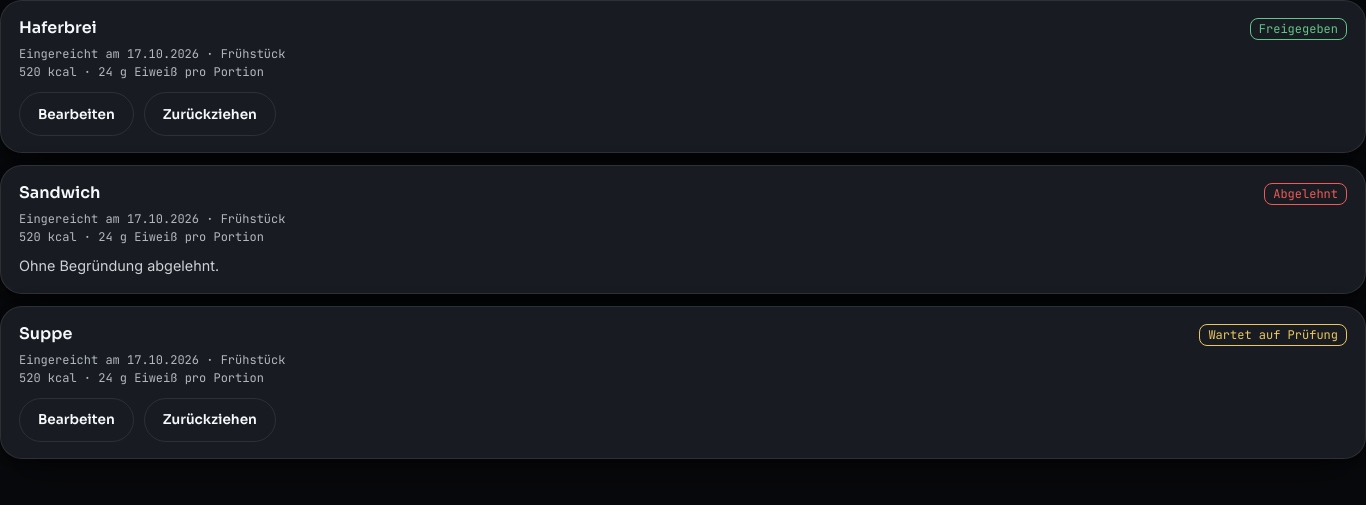
Test: MySubmissionsView — Verifizierte Autoren (Fahrplan 29 V3) › die Rückfrage beim Zurückziehen sagt bei freigegebenen Rezepten, dass es für alle verschwindet
The width and height of the screenshot is (1366, 505).
Click the button with aria-label "Haferbrei zurückziehen": (210, 114) [144,92,276,136]
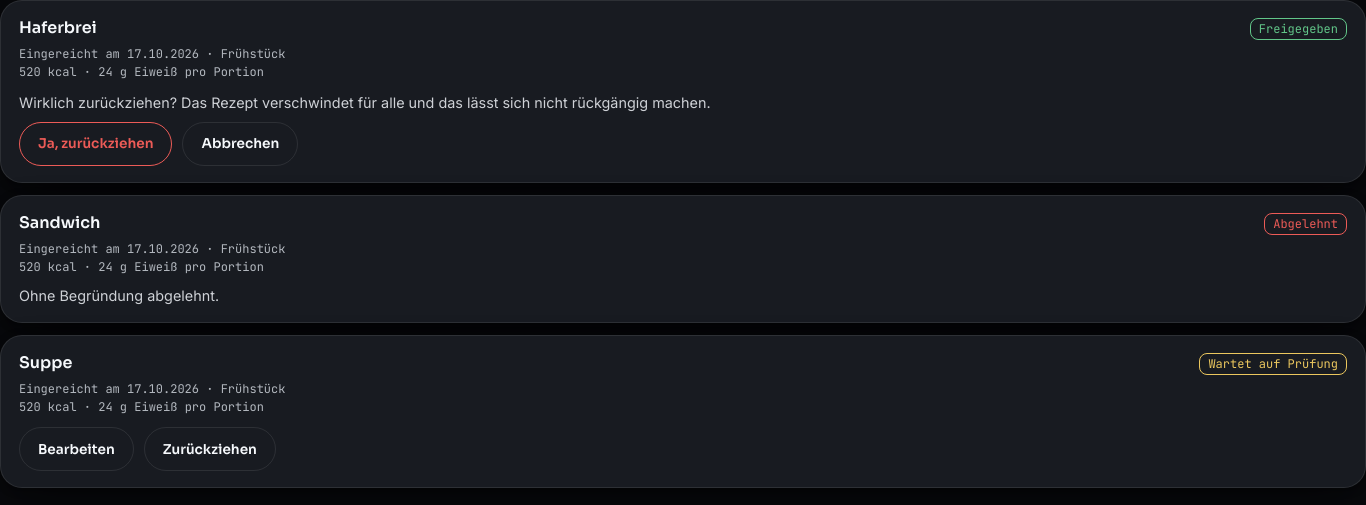
Expected: the text "verschwindet für alle" is shown, [19,94,711,111]
Click the button "Abbrechen": (240, 144) [182,122,298,166]
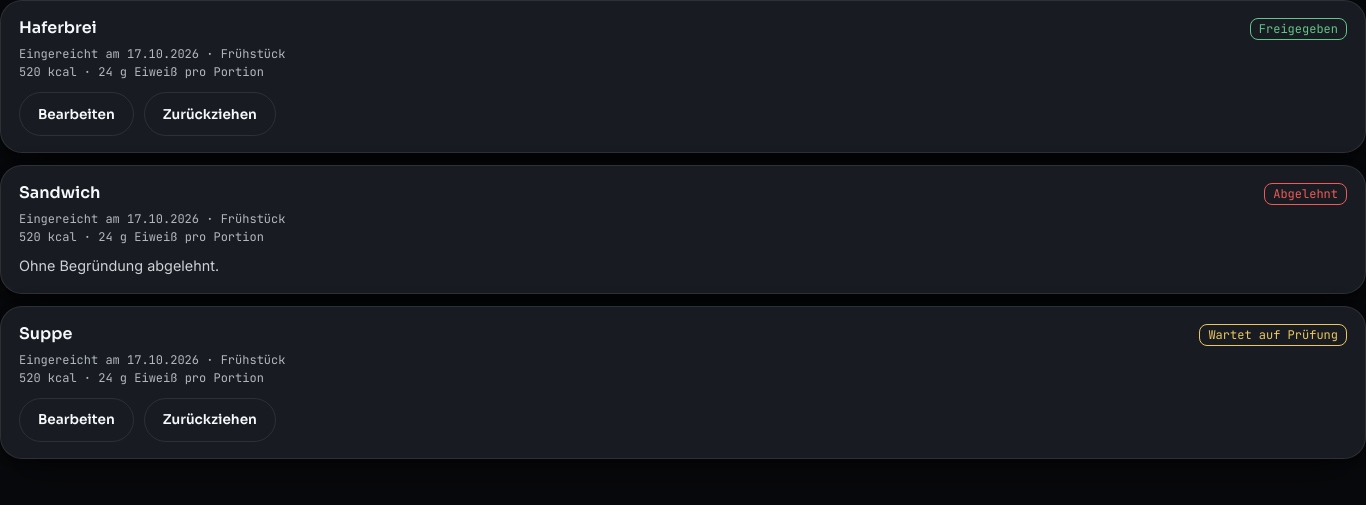
Click the button with aria-label "Suppe zurückziehen": (210, 420) [144,398,276,442]
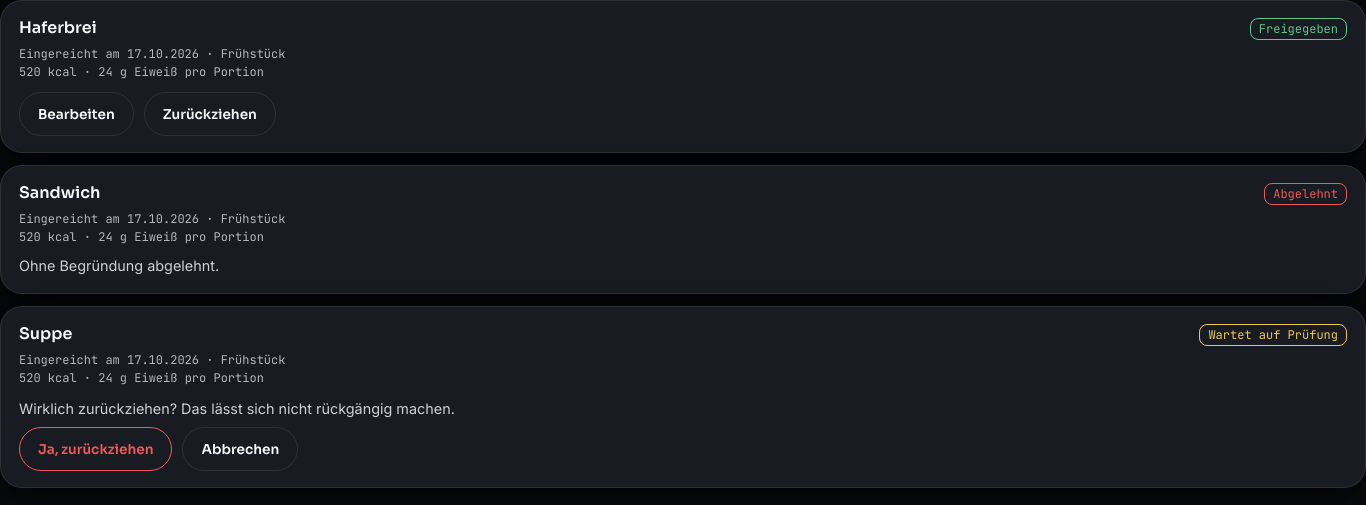
Expected: the text "verschwindet für alle" is not shown
Expected: the text "Das lässt sich nicht rückgängig machen" is shown, [19,400,455,417]
